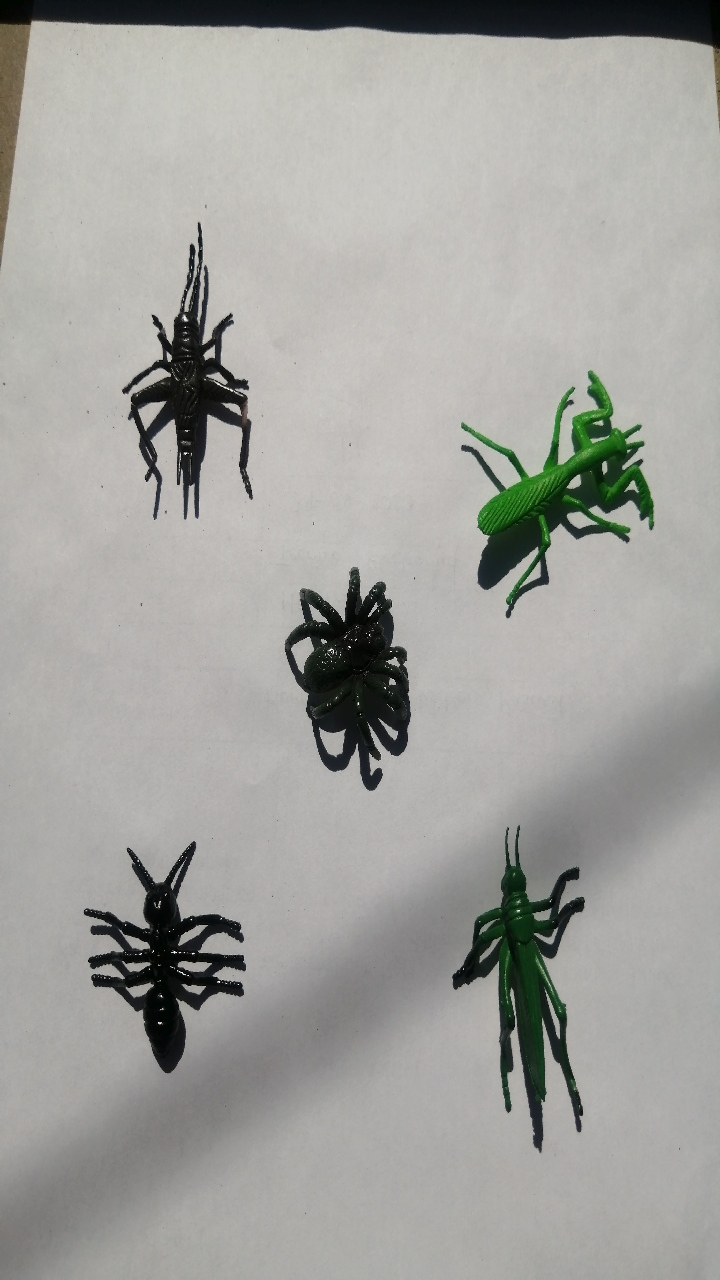intruso: (432, 795, 611, 1154), (440, 348, 671, 612), (75, 794, 277, 1091), (115, 197, 281, 519), (266, 540, 443, 765)
